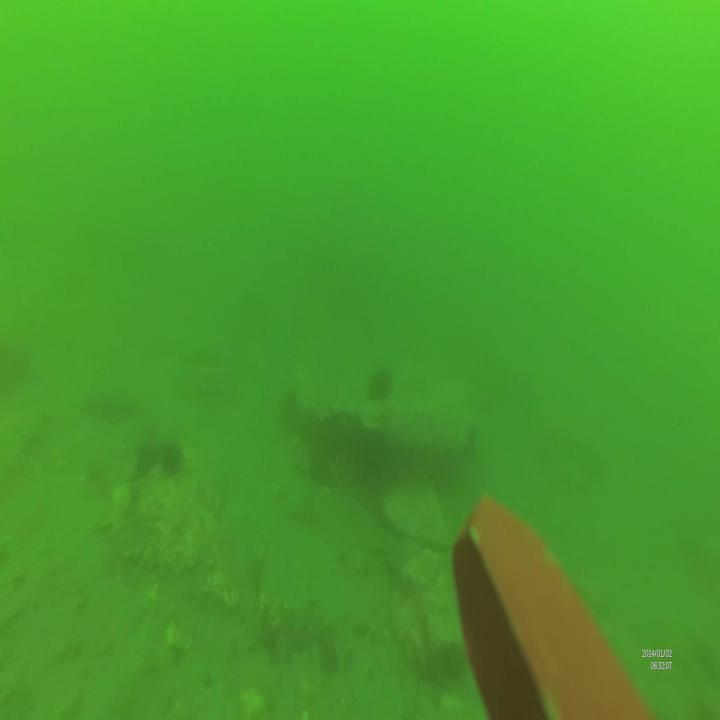echinus: (156, 436, 182, 481), (367, 368, 392, 406), (137, 439, 159, 477)
